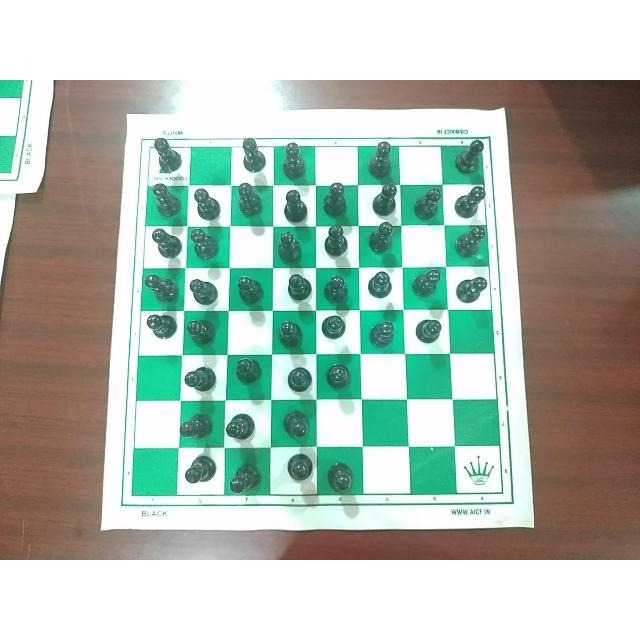black-pawn: (231, 134, 270, 178), (452, 136, 489, 176), (143, 267, 181, 305), (148, 178, 184, 218), (278, 185, 314, 225), (280, 137, 314, 179), (232, 180, 268, 219), (451, 222, 491, 257), (365, 137, 401, 175), (451, 272, 489, 308), (228, 461, 263, 499), (148, 134, 184, 170), (323, 361, 359, 397), (319, 223, 353, 261), (182, 275, 220, 309), (412, 184, 444, 224), (147, 224, 182, 260), (319, 182, 352, 220), (191, 181, 223, 220), (187, 225, 223, 259), (408, 315, 446, 347), (368, 217, 398, 257), (181, 457, 221, 487), (177, 413, 212, 447), (282, 452, 315, 488), (272, 226, 304, 263), (279, 411, 316, 443), (324, 459, 356, 496), (454, 182, 485, 220), (281, 269, 315, 303), (234, 271, 266, 307), (276, 316, 308, 352), (145, 309, 177, 343), (282, 364, 316, 396), (322, 270, 352, 306), (318, 312, 348, 348), (181, 364, 217, 394), (410, 267, 443, 299), (364, 269, 395, 303), (365, 318, 399, 349), (184, 314, 216, 346), (231, 353, 263, 385), (227, 409, 257, 443), (371, 182, 402, 213)
